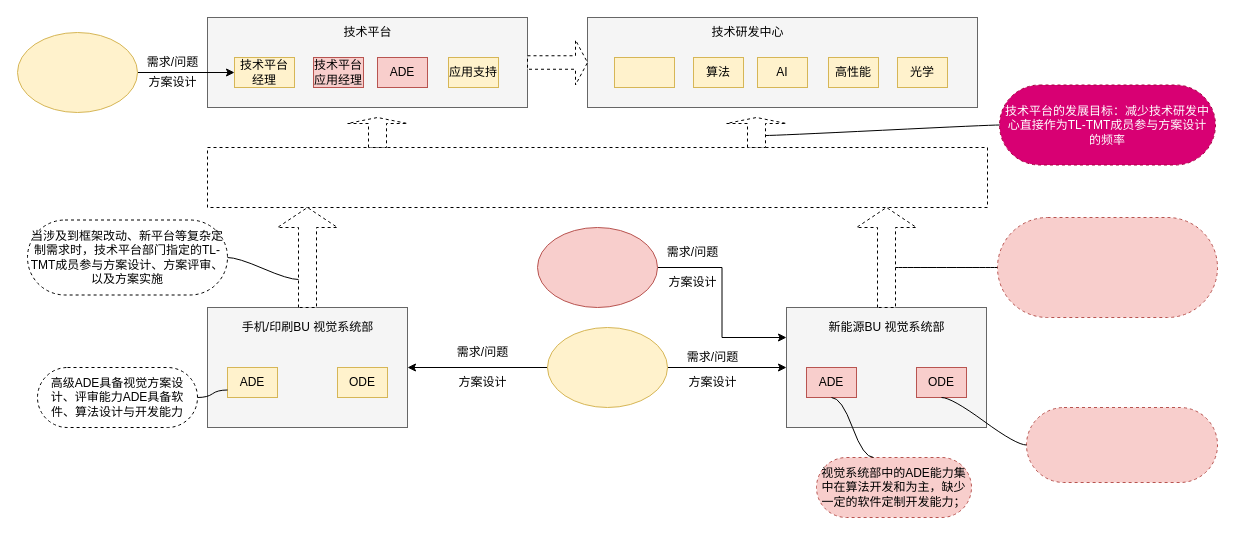
The diagram is 1235 pixels wide and 535 high, and some of its shapes have lost their labels. The shapes that lost their labels are listed below. From the top down, each one's box as (x1, y1, x2, y2) in pixels, then its label:
(16, 32, 138, 112): 新技术平台项目和技术平台迭代项目
(614, 56, 674, 88): 软件
(206, 146, 988, 208): TL-TMT成员
(536, 226, 658, 308): 新行业的新产品开发项目
(996, 216, 1218, 318): 新能源属于新行业，并且针对新能源行业的技术平台刚刚成熟，团队还未孵化成功，所以需求基本都是上抛给到技术平台
(546, 326, 668, 408): 已有行业的新产品、定制产品、预研项目
(1026, 406, 1218, 482): 新能源中的前道场景对ODE能力需求不太显性，但是关键技术难点还是需要成像技术沉淀
